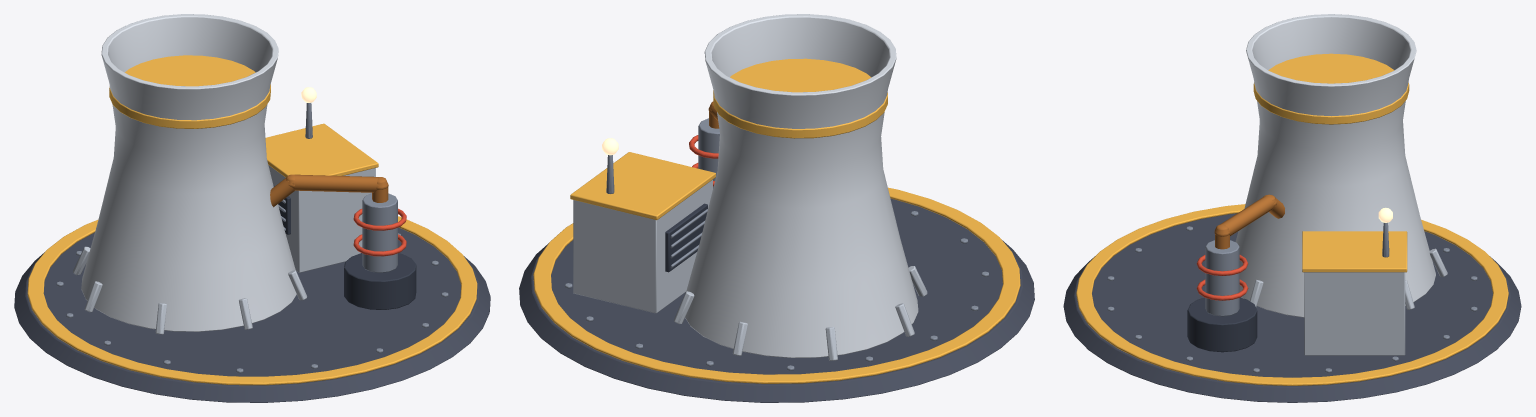
3 renders of one model, left to right at view 1: azimuth 30°, elevation 25°; view 2: azimuth 150°, elevation 25°; view 3: azimuth 270°, elevation 25°, orthographic. The views are drawn at different scales.
Visible parts, largest first — view 1: geo_Koerper; view 2: geo_Koerper; view 3: geo_Koerper.
Boxes of the visible parts, left/top/right/bottom form: geo_Koerper: left=14, top=14, right=490, bottom=402; geo_Koerper: left=519, top=14, right=1034, bottom=402; geo_Koerper: left=1063, top=14, right=1521, bottom=402.
Bounding box in the file's own units: 5.89 × 3.36 × 5.89.
